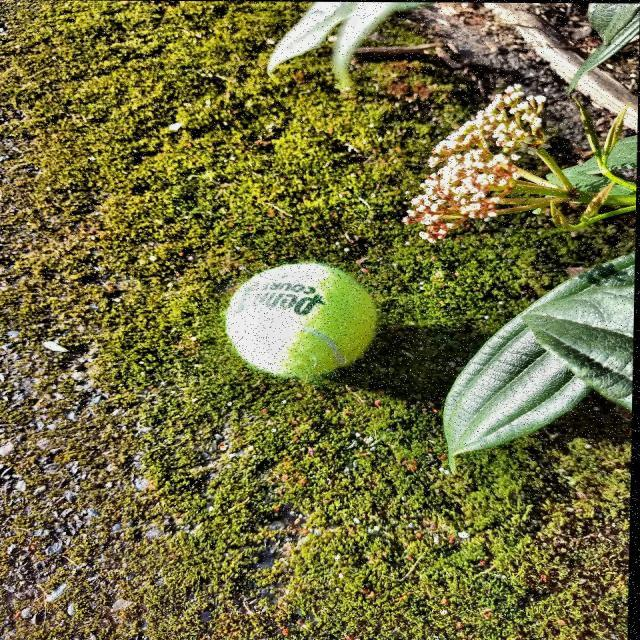tennis-ball: (218, 258, 388, 384)
